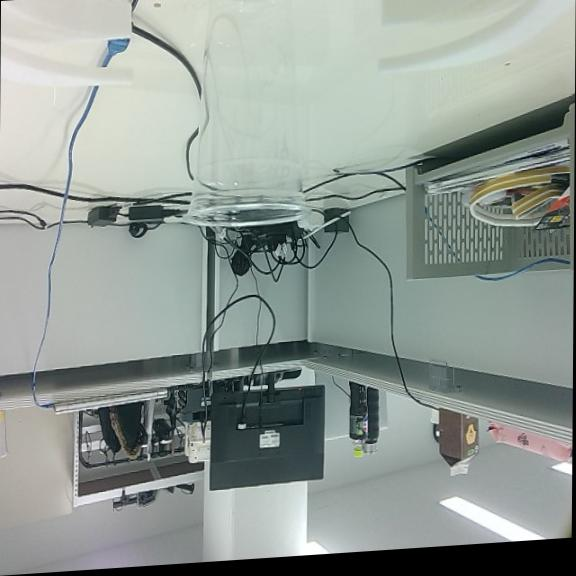Plastik: (186, 0, 308, 226)
